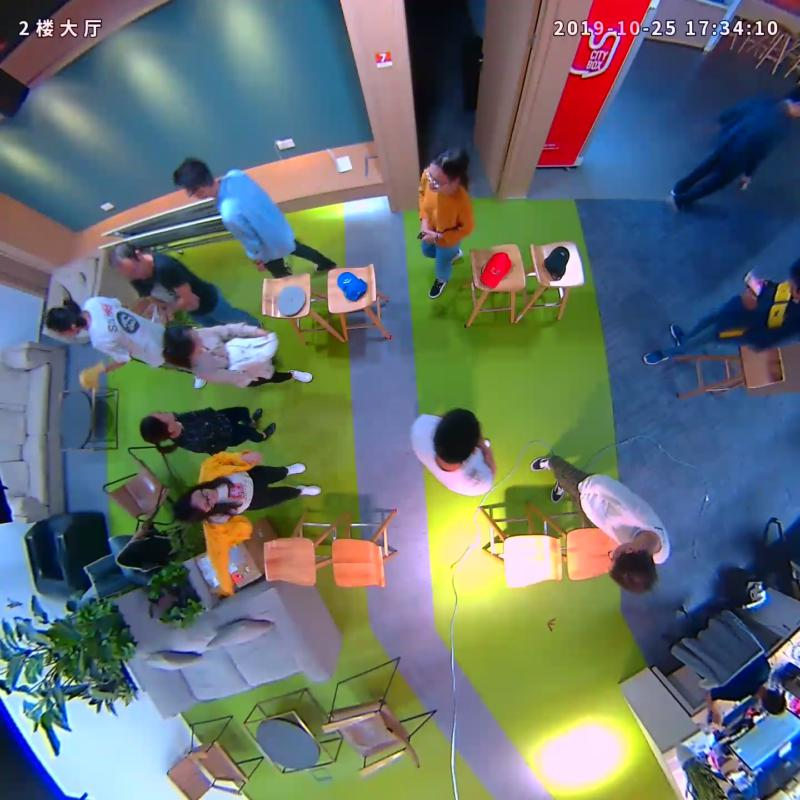head: (433, 407, 479, 464), (608, 541, 656, 595), (425, 147, 468, 192), (172, 485, 217, 522), (107, 241, 149, 280), (173, 158, 213, 198), (163, 324, 203, 361), (44, 305, 82, 337), (138, 410, 174, 443)
